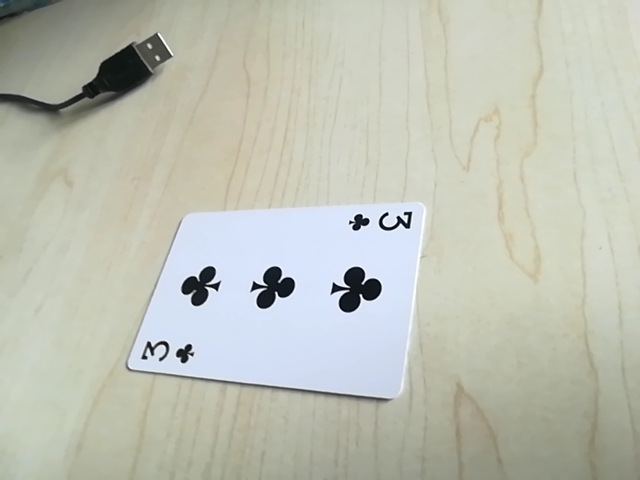mh 3: (346, 205, 415, 237), (132, 337, 200, 369)
